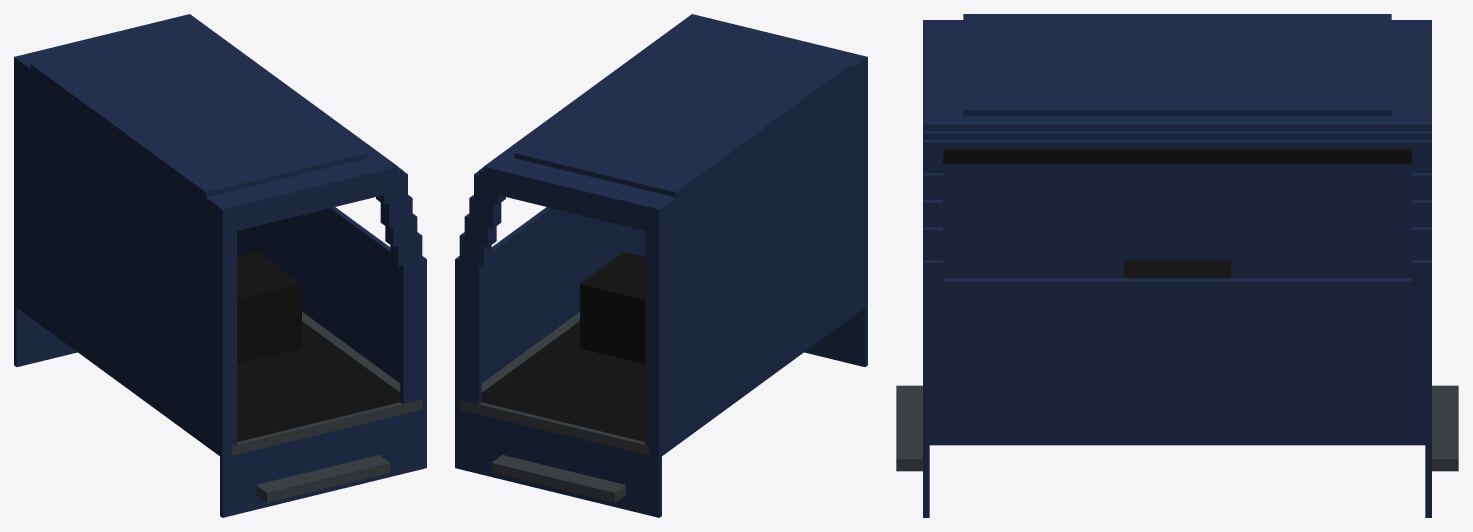
Rendered from swat_truck_cab.glb.
The picture shows the model from 3 angles, left to right: view 1: azimuth 30°, elevation 25°; view 2: azimuth 150°, elevation 25°; view 3: azimuth 270°, elevation 25°; orthographic projection. The views are drawn at different scales.
Visible parts, largest first — view 1: body:compound; view 2: body:compound; view 3: body:compound.
Part boxes in pixels (box(x1,y1,x2,y2)): body:compound: box(14, 14, 426, 517); body:compound: box(455, 14, 867, 517); body:compound: box(896, 14, 1458, 517).
Bounding box in the file's own units: 1.34 × 1.97 × 2.62.
